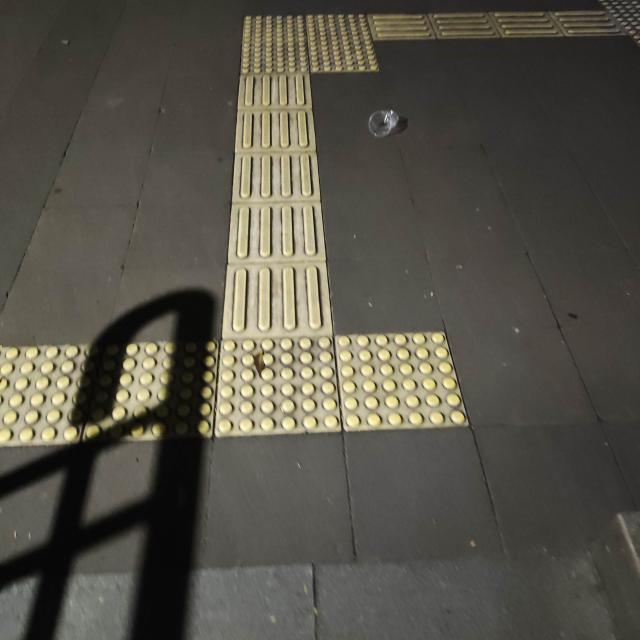kanan: (208, 0, 494, 99)
